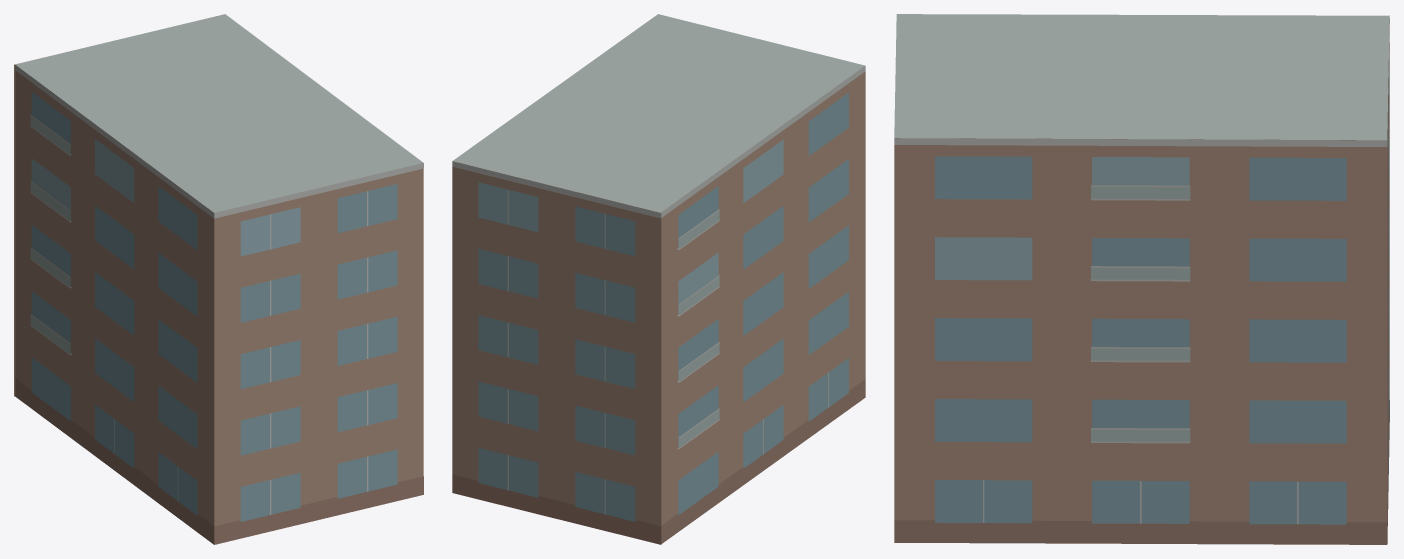
File: survey-upis-32997397.glb
3 renders of one model, left to right at view 1: azimuth 30°, elevation 25°; view 2: azimuth 150°, elevation 25°; view 3: azimuth 270°, elevation 25°, orthographic. The views are drawn at different scales.
Parts seen in each view (by area): view 1: survey-upis-32997397.tmp; view 2: survey-upis-32997397.tmp; view 3: survey-upis-32997397.tmp.
Part boxes in pixels (<box>): survey-upis-32997397.tmp: <box>14,14,423,544</box>; survey-upis-32997397.tmp: <box>452,14,865,544</box>; survey-upis-32997397.tmp: <box>894,14,1389,544</box>.
Size of the model in its own units: 9.68 by 14.45 by 16.05.
